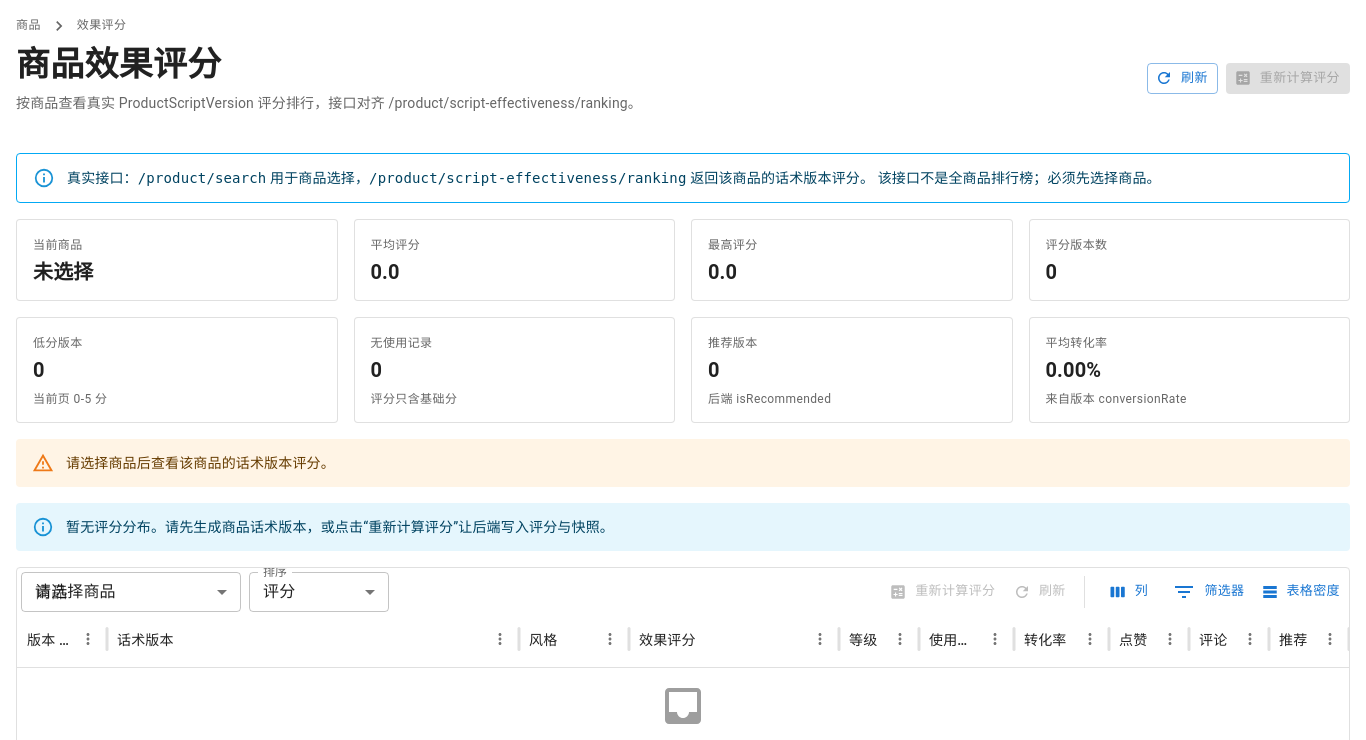
Test: EffectivenessScorePage › shows retryable product-list and ranking errors
Select "修护精华" in the dropdown labelled "商品" at (131, 592), box [21,572,241,612]
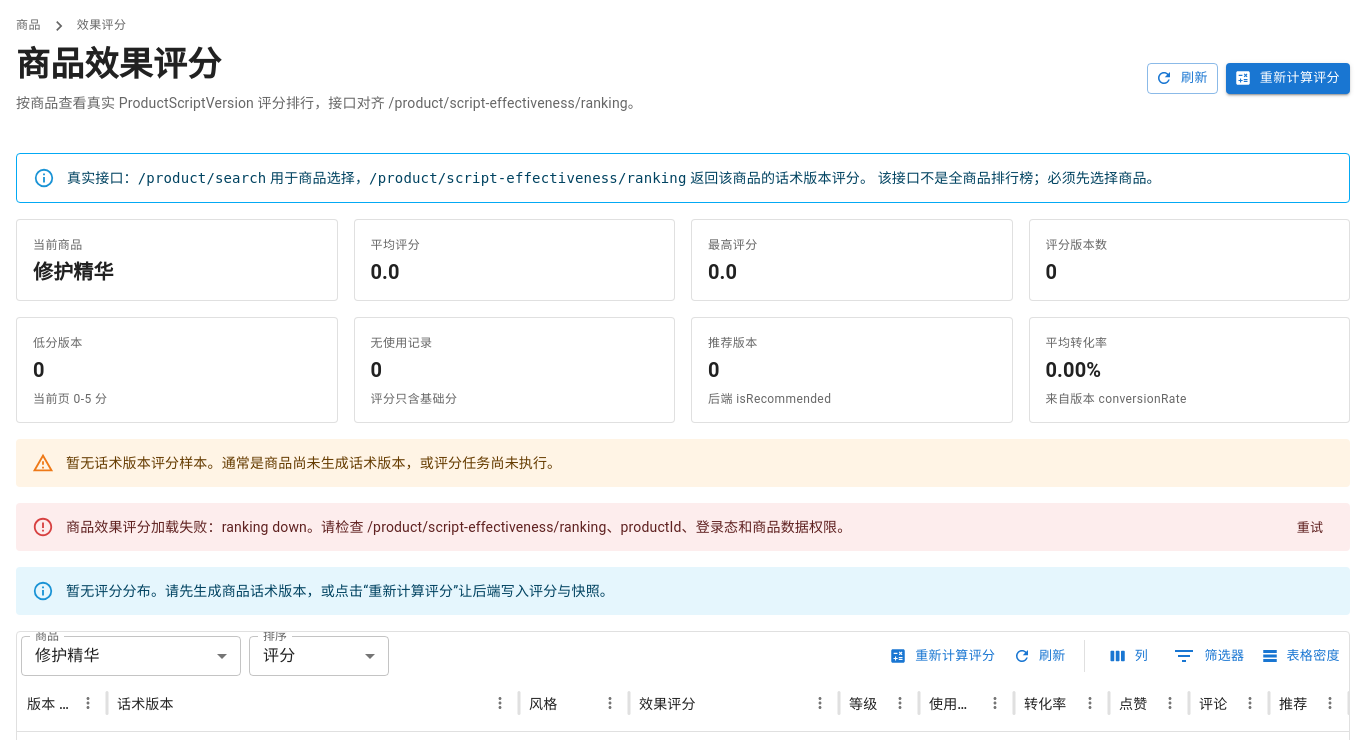
Expected: the text "商品效果评分加载失败" is shown, [66,519,222,535]
Expected: the text "ranking down" is shown, [222,519,852,535]
